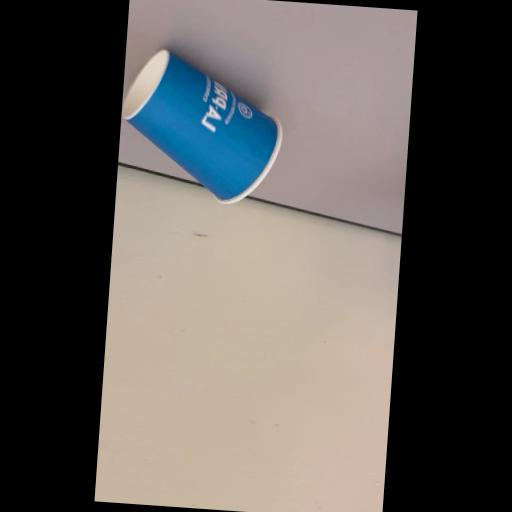lp_paper_cup: (116, 42, 292, 206)
